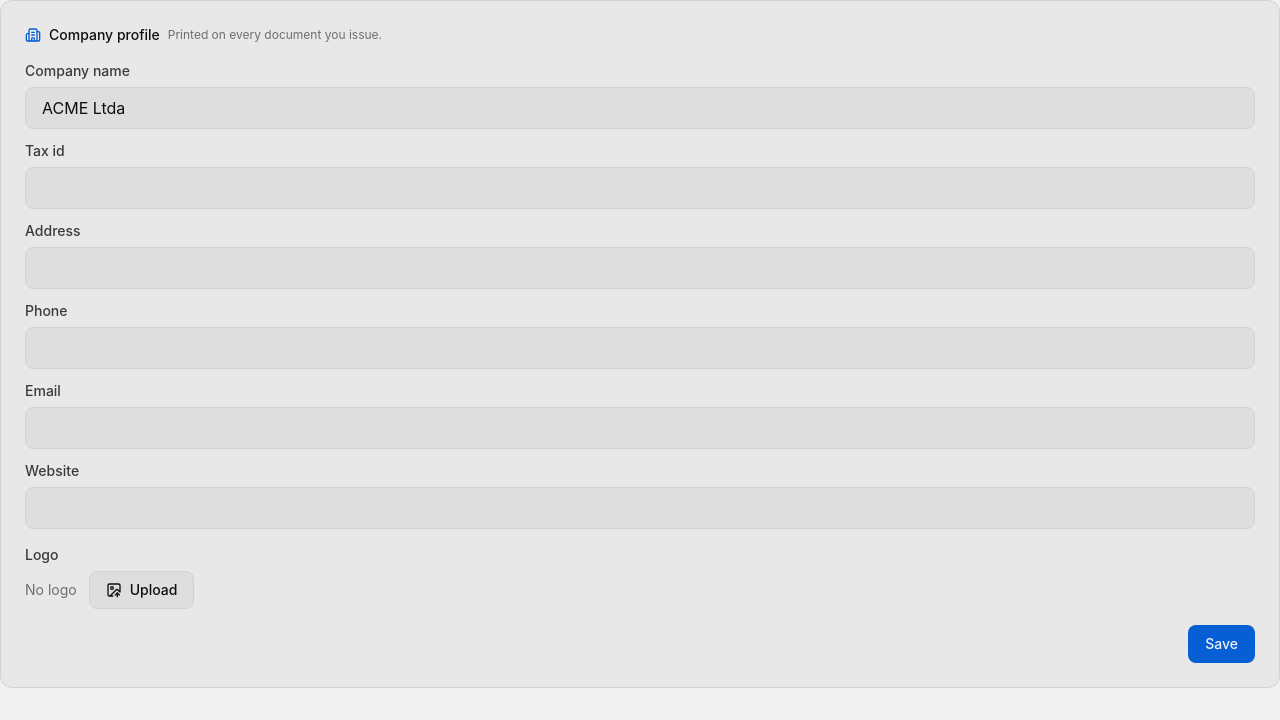
Test: a company save with no server behind it still says something
The width and height of the screenshot is (1280, 720).
Replace the text in the field labelled "Company name" with "ACME Nova" at (640, 108), box [25,87,1255,129]
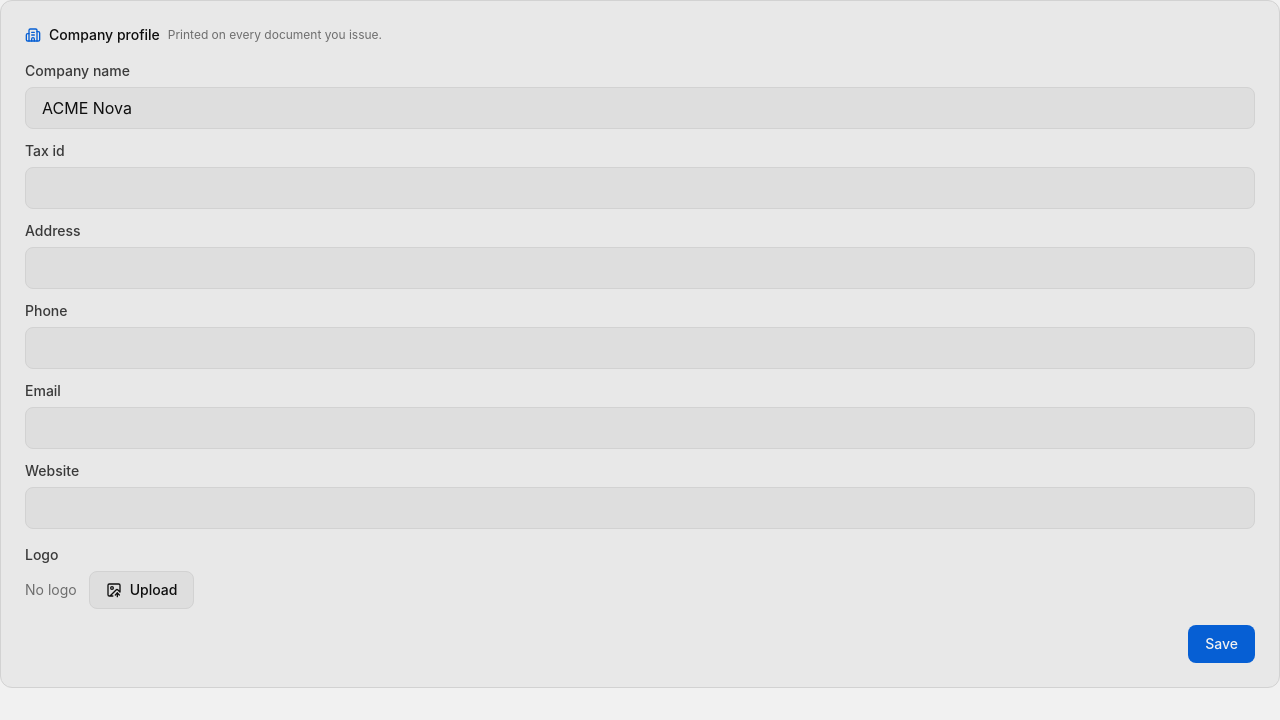
Click the button "Save".
click(1222, 644)  # box [1188,625,1255,663]
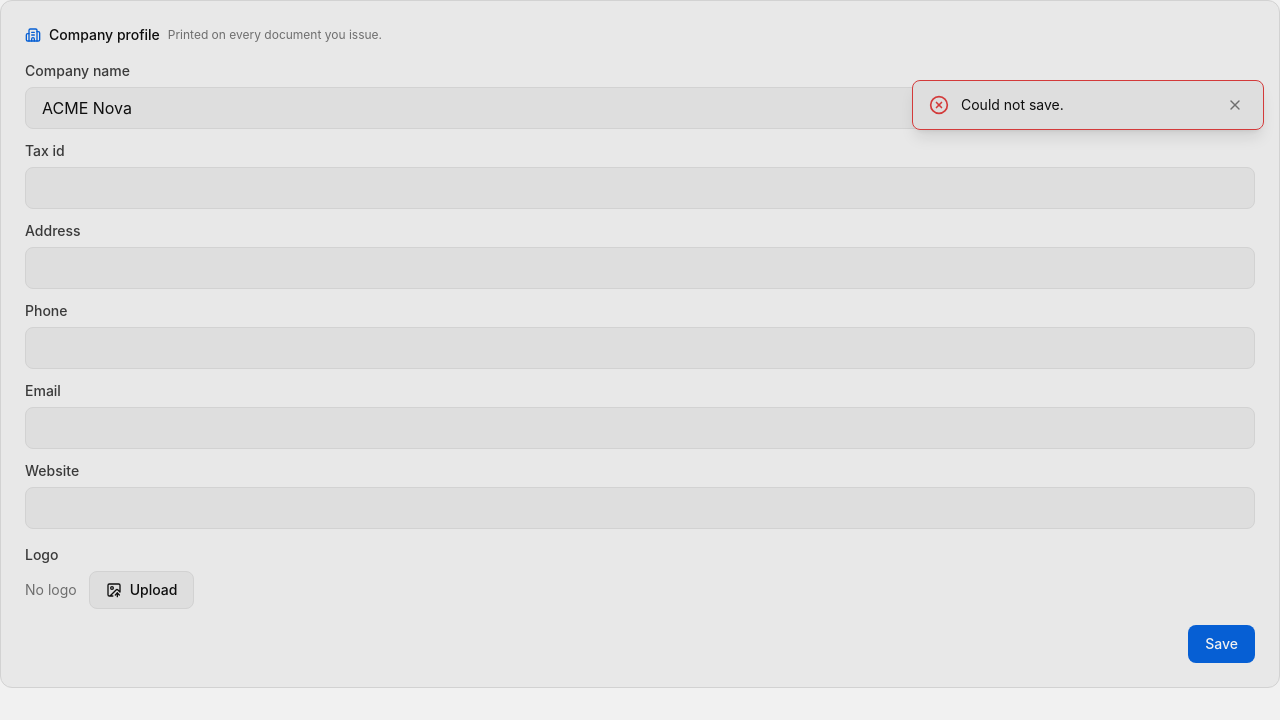
Expected: the text "Could not save." is shown, [961,96,1064,113]
